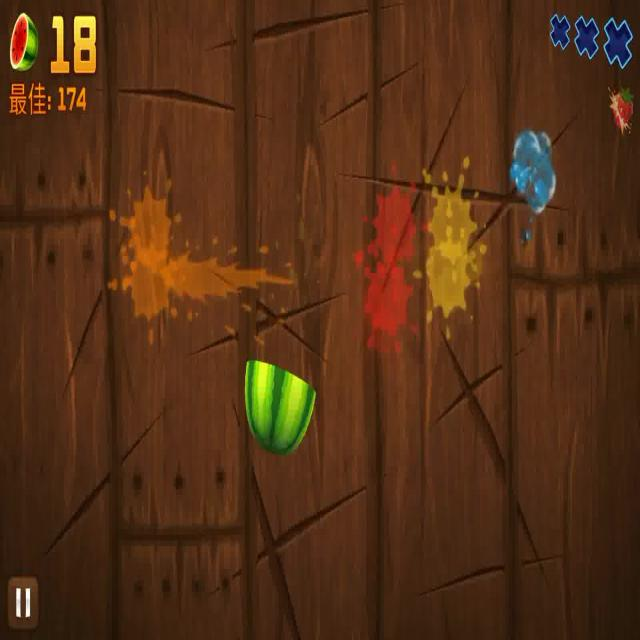fruit: (242, 356, 322, 449)
